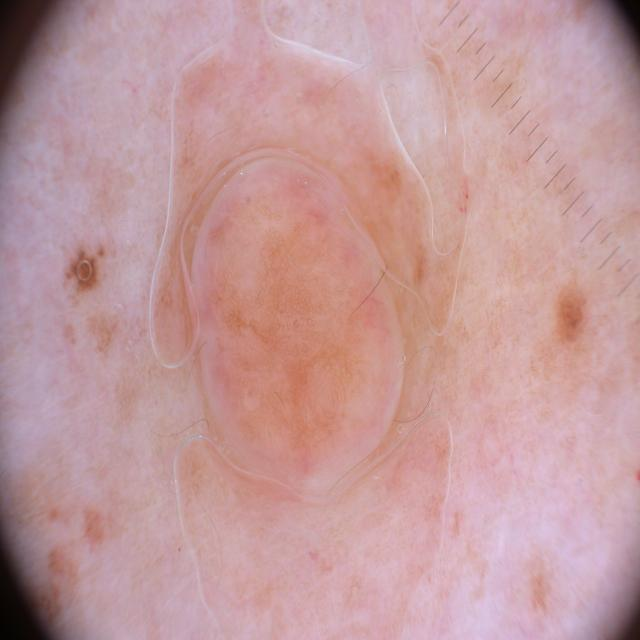Benign: (184, 105, 416, 519)
